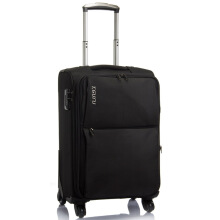luggage: (56, 0, 163, 219)
